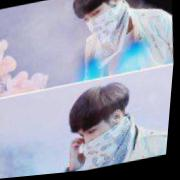OK: (83, 5, 120, 45)
WRONG: (79, 121, 123, 165)
